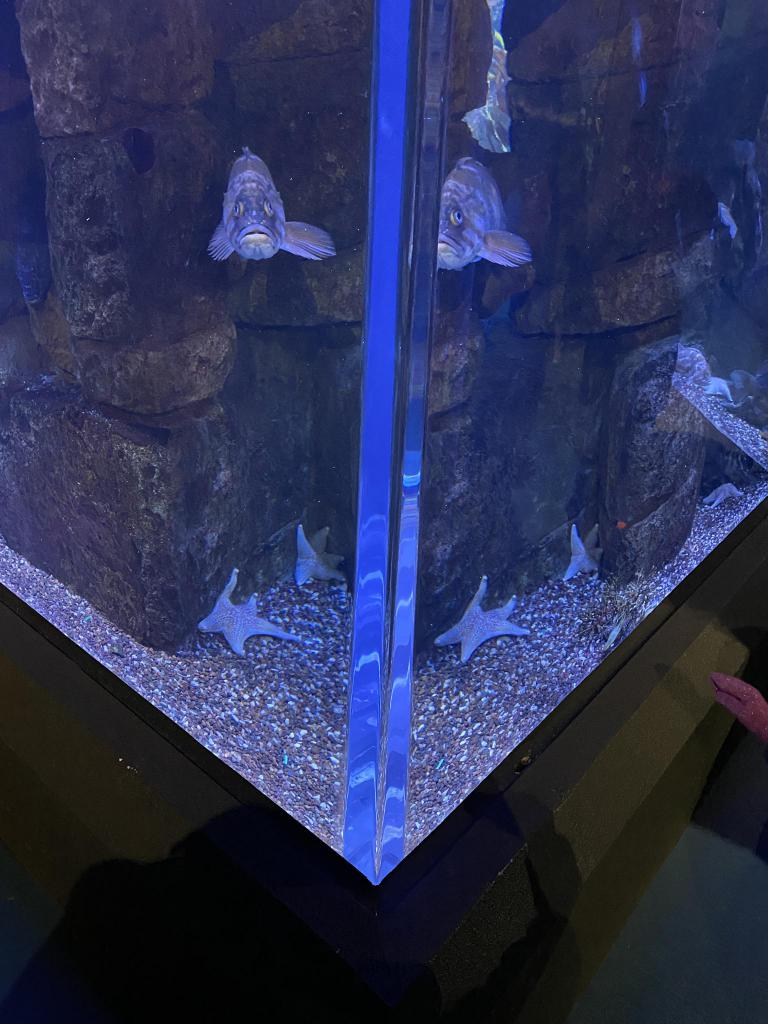fish: (434, 164, 532, 276), (216, 163, 306, 267)
starfish: (194, 584, 290, 658), (444, 578, 528, 660), (292, 529, 348, 591), (566, 526, 608, 584)
